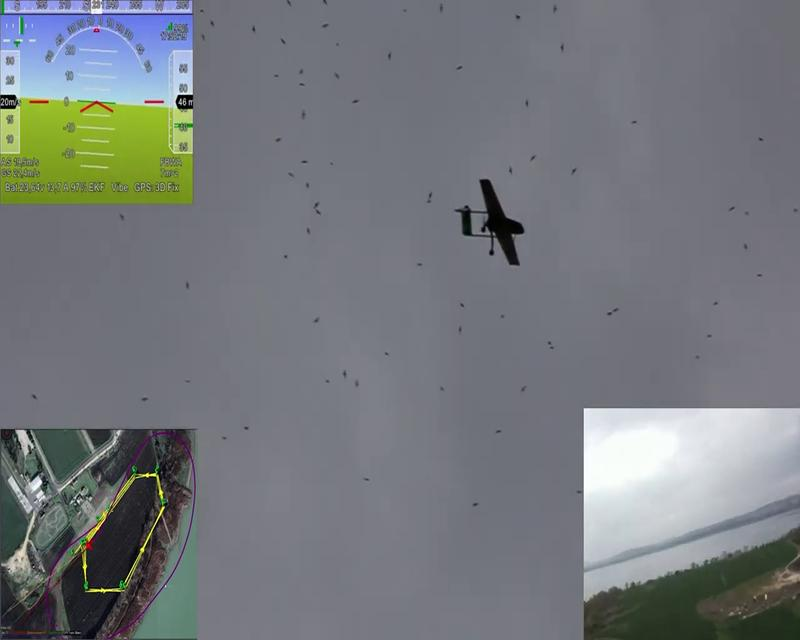UAV: (0, 0, 195, 204), (456, 178, 524, 266)
